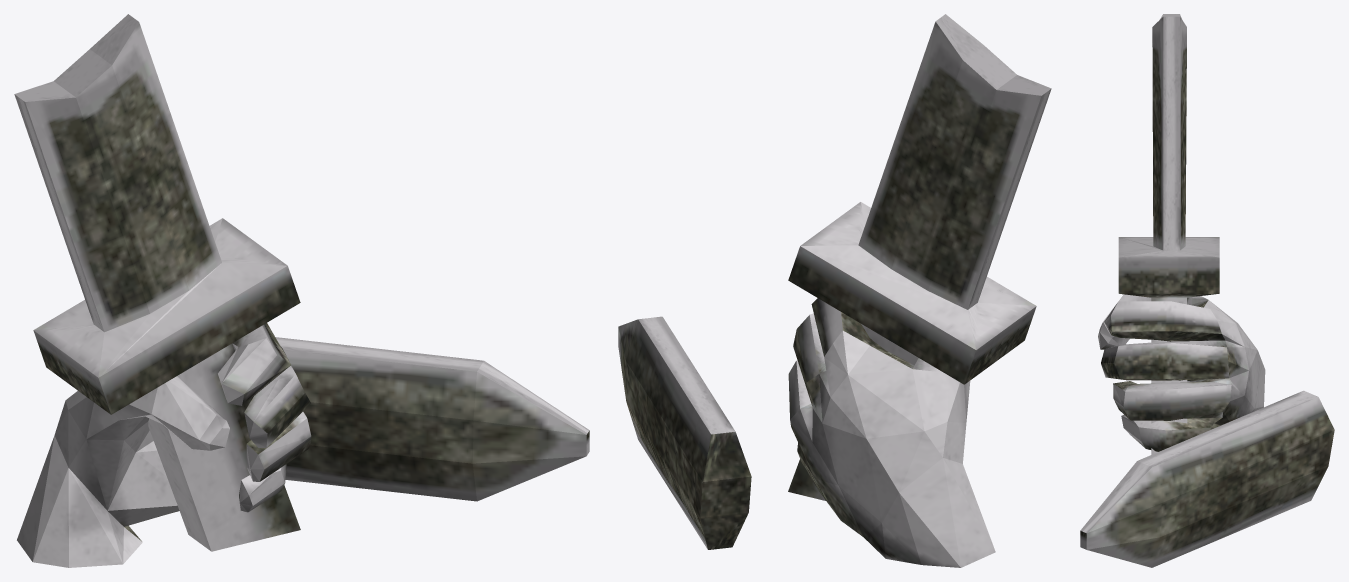
The model's file is ob-bigstatue02.glb.
3 views of the same model, side by side, from view 1: azimuth 30°, elevation 25°; view 2: azimuth 150°, elevation 25°; view 3: azimuth 270°, elevation 25° (orthographic). The views are drawn at different scales.
Parts seen in each view (by area): view 1: Object01; view 2: Object01; view 3: Object01.
Part boxes in pixels (<box>): Object01: <box>14,14,589,567</box>; Object01: <box>618,14,1051,567</box>; Object01: <box>1080,14,1334,567</box>.
Bounding box in the file's own units: 5.81 × 5.88 × 3.2.
1 material, 1 textured.
